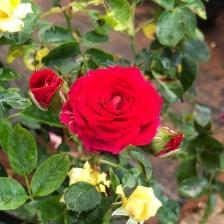rose: (65, 67, 162, 154), (29, 68, 65, 110)
